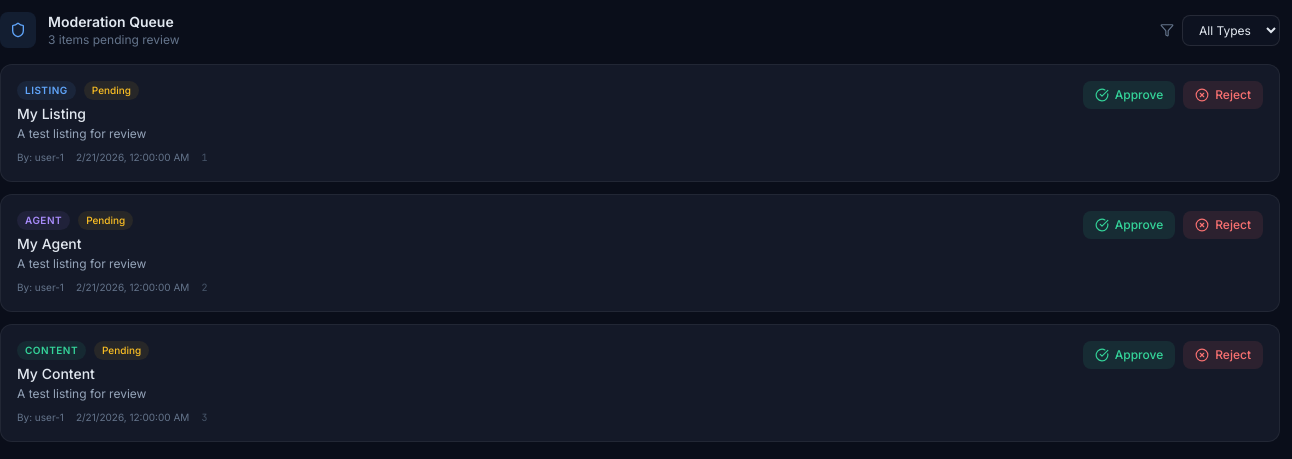
ModerationQueue › filters items by type when a specific filter is selected
The image size is (1292, 459).
Filter to agents only
Select "Agents" in the dropdown showing "All Types": x=1231, y=30 x1=1182 y1=14 x2=1280 y2=46
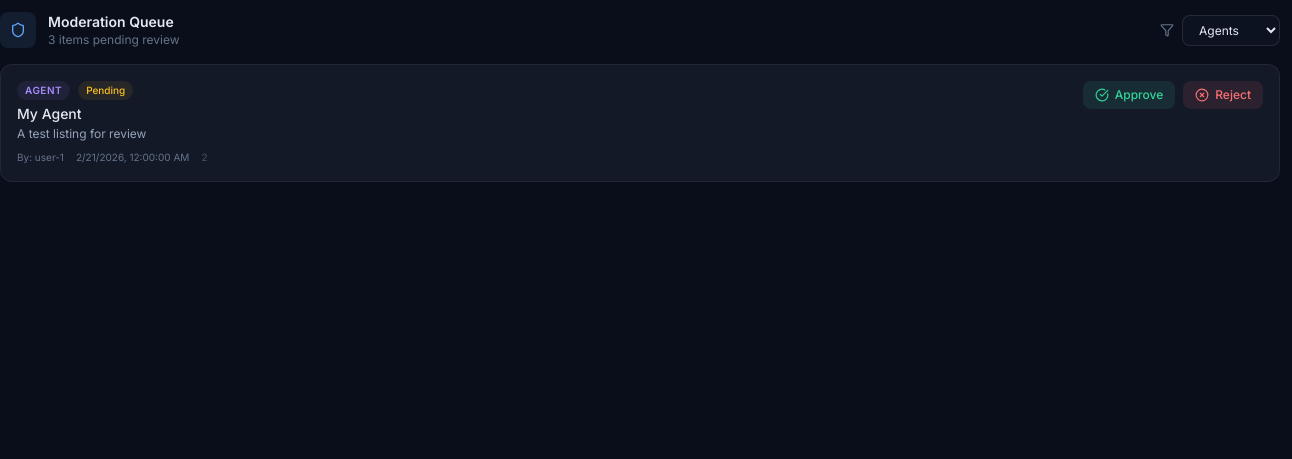
Expected: the heading "My Agent" is shown, x1=17 y1=105 x2=82 y2=122
Result: the heading "My Listing" is gone
Result: the heading "My Content" is gone
